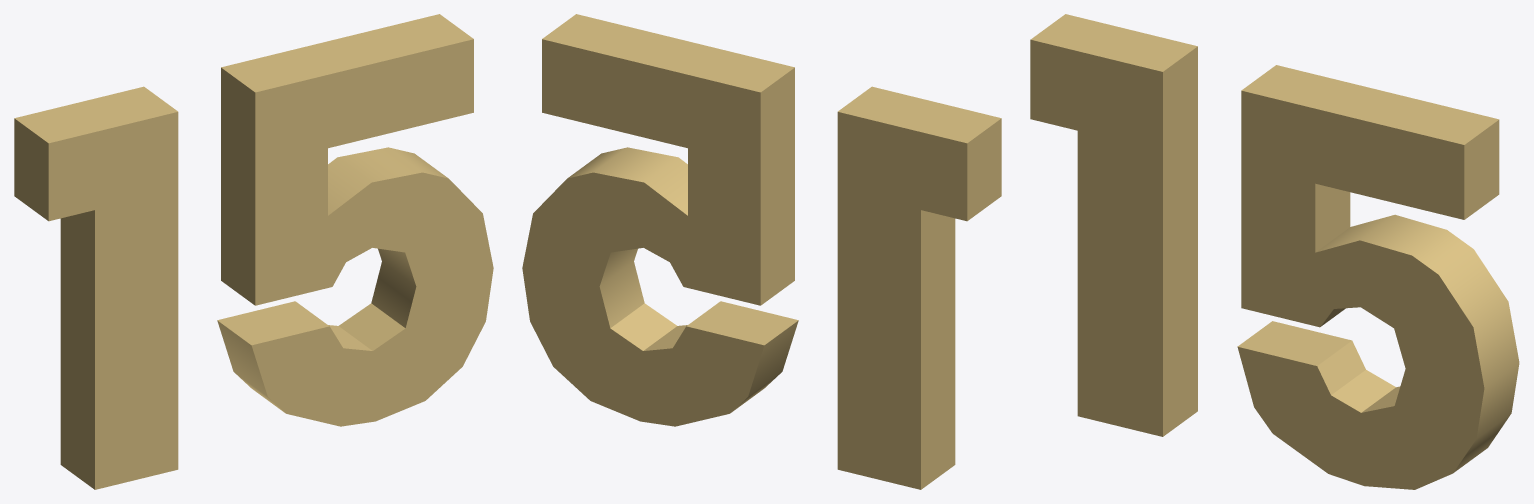
The model's file is kr_num_15.glb.
The picture shows the model from 3 angles, left to right: view 1: azimuth 30°, elevation 25°; view 2: azimuth 150°, elevation 25°; view 3: azimuth 330°, elevation 25°; orthographic projection. The views are drawn at different scales.
Parts seen in each view (by area): view 1: vc_m8_r2; view 2: vc_m8_r2; view 3: vc_m8_r2.
Boxes of the visible parts, x1,y1,x2,y2 form: vc_m8_r2: [14, 14, 493, 489]; vc_m8_r2: [522, 14, 1001, 489]; vc_m8_r2: [1030, 14, 1519, 489].
Size of the model in its own units: 0.4486 by 0.3452 by 0.06.
